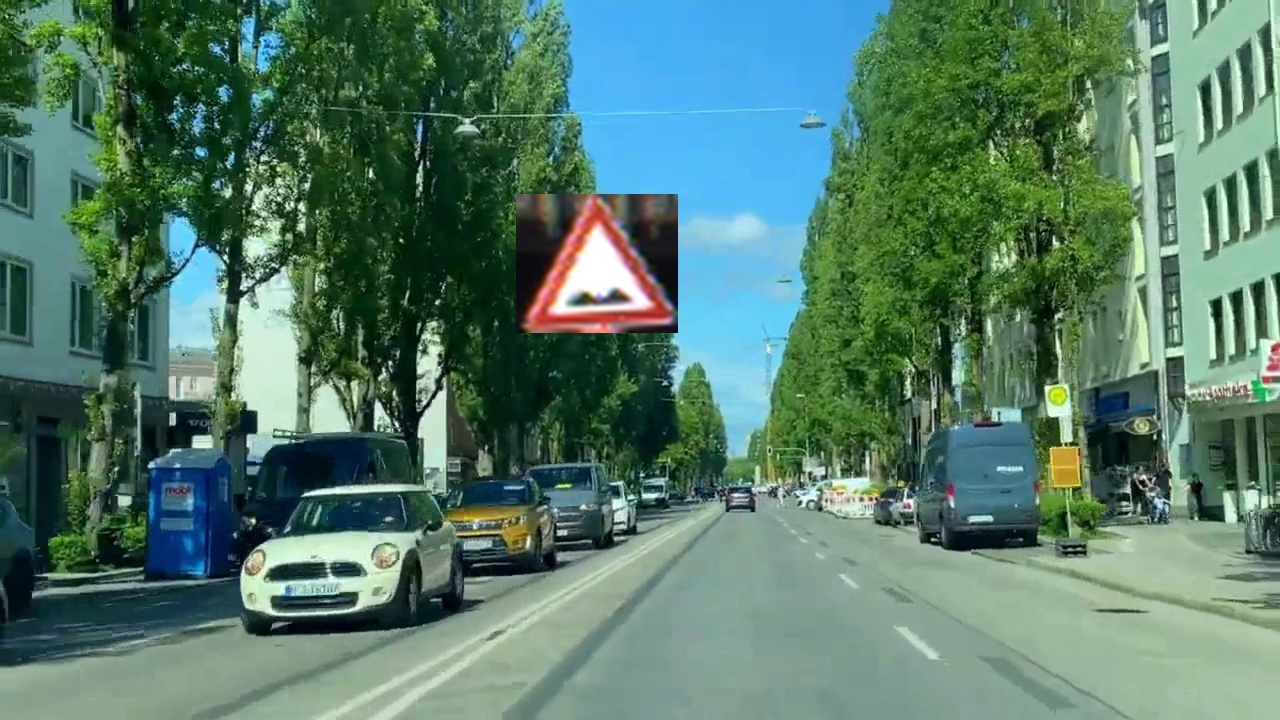Bumpy road: (516, 194, 678, 333)
